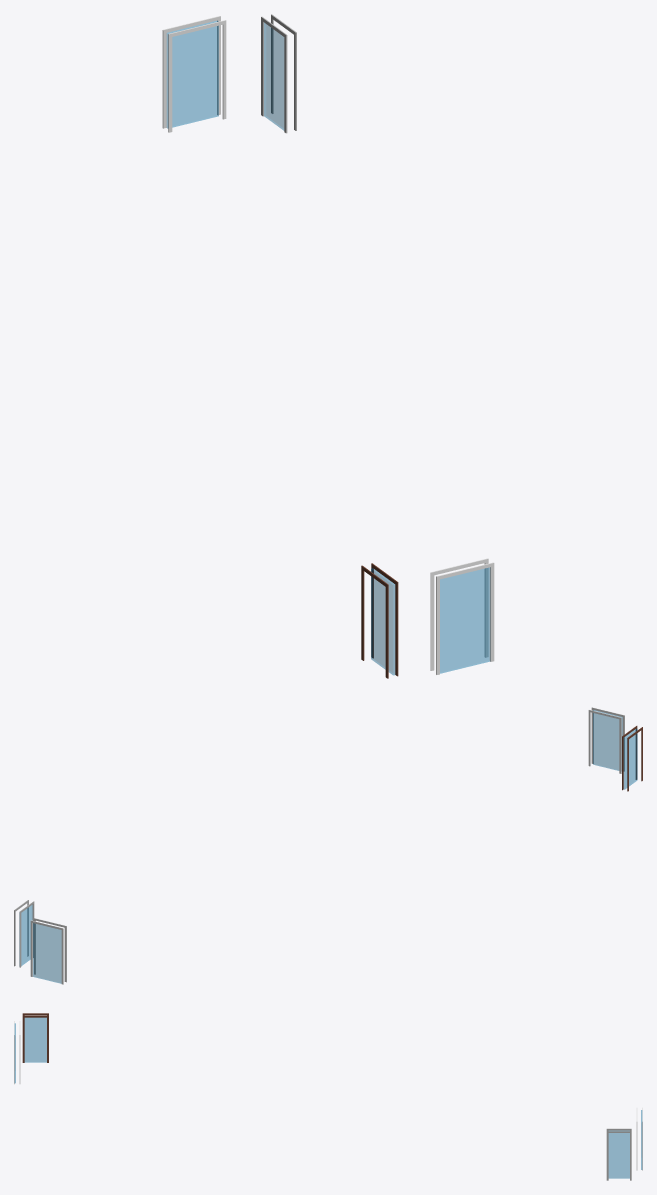
Rendered from Zoll_Atruimholes_zonesupdaes_Level_1_IfcDoor.dae.
3 views of the same model, one above another, from view 1: azimuth 30°, elevation 25°; view 2: azimuth 150°, elevation 25°; view 3: azimuth 270°, elevation 25° (orthographic). The views are drawn at different scales.
Parts seen in each view (by area): view 1: 2eQAkgtmr7OOnUGGEDt_be, 3vSe8fBOnBYuhKn3XRNLEq, 2eQAkgtmr7OOnUGGEDt_bd, 2eQAkgtmr7OOnUGGEDt_bf; view 2: 3vSe8fBOnBYuhKn3XRNLEq, 2eQAkgtmr7OOnUGGEDt_be, 2eQAkgtmr7OOnUGGEDt_bd, 2eQAkgtmr7OOnUGGEDt_bf; view 3: 2eQAkgtmr7OOnUGGEDt_bd, 2eQAkgtmr7OOnUGGEDt_bf.
Boxes of the visible parts, bbox=[...] form: 2eQAkgtmr7OOnUGGEDt_be: bbox=[430, 558, 494, 674]; 3vSe8fBOnBYuhKn3XRNLEq: bbox=[162, 16, 226, 132]; 2eQAkgtmr7OOnUGGEDt_bd: bbox=[361, 563, 398, 678]; 2eQAkgtmr7OOnUGGEDt_bf: bbox=[261, 14, 296, 133]; 3vSe8fBOnBYuhKn3XRNLEq: bbox=[30, 918, 66, 984]; 2eQAkgtmr7OOnUGGEDt_be: bbox=[588, 707, 624, 773]; 2eQAkgtmr7OOnUGGEDt_bd: bbox=[622, 726, 642, 791]; 2eQAkgtmr7OOnUGGEDt_bf: bbox=[14, 900, 34, 967]; 2eQAkgtmr7OOnUGGEDt_bd: bbox=[22, 1013, 48, 1062]; 2eQAkgtmr7OOnUGGEDt_bf: bbox=[606, 1128, 631, 1180].
Bounding box in the file's own units: 11.6 × 25.62 × 2.21.
